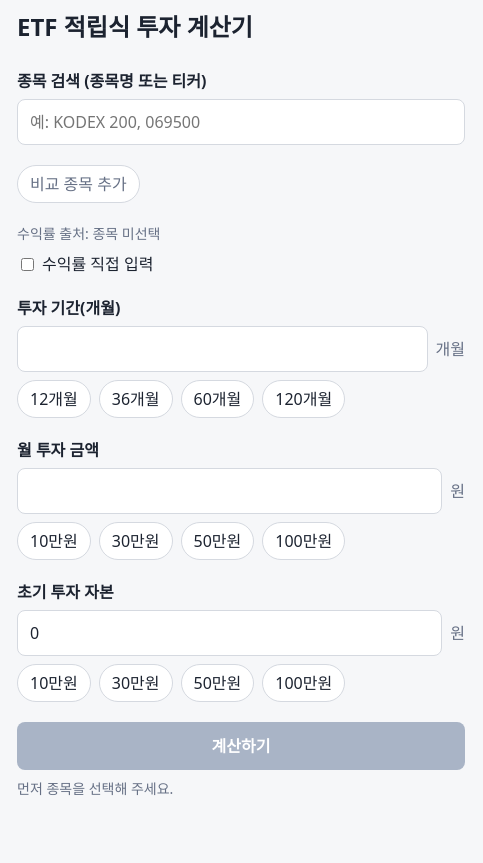
Test: 링크 공유 (US-009) › 링크 복사는 origin+pathname+query를 클립보드에 쓴다
The width and height of the screenshot is (483, 863).
Type "알파" into the dropdown labelled "종목 검색 (종목명 또는 티커)" at (241, 122), box [17,99,465,145]
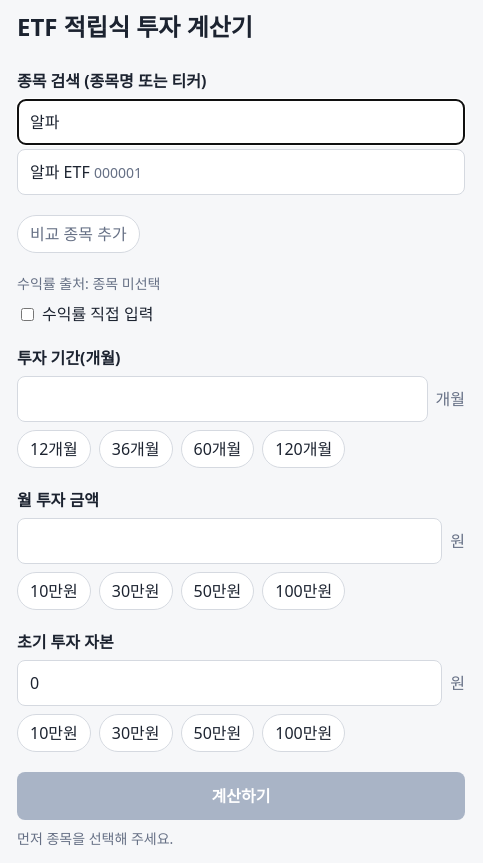
Click the option "알파 ETF 000001" at (86, 172), box [30,161,142,183]
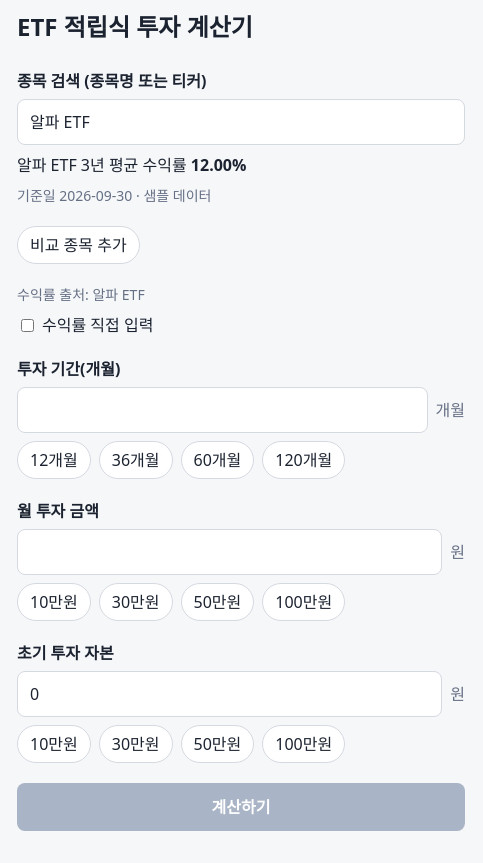
Type "12" into the field labelled "투자 기간(개월)" at (222, 410), box [17,387,428,433]
Type "100000" into the field labelled "월 투자 금액" at (230, 552), box [17,529,442,575]
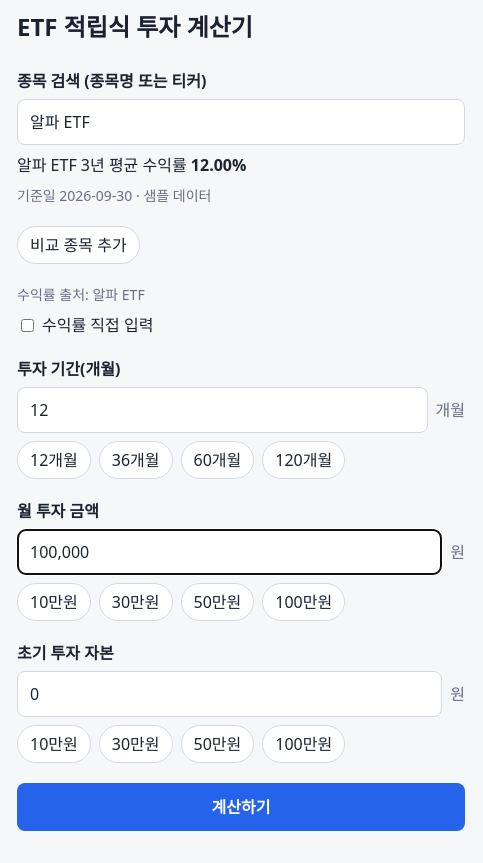
Replace the text in the field labelled "초기 투자 자본" with "1000000" at (230, 694), box [17,671,442,717]
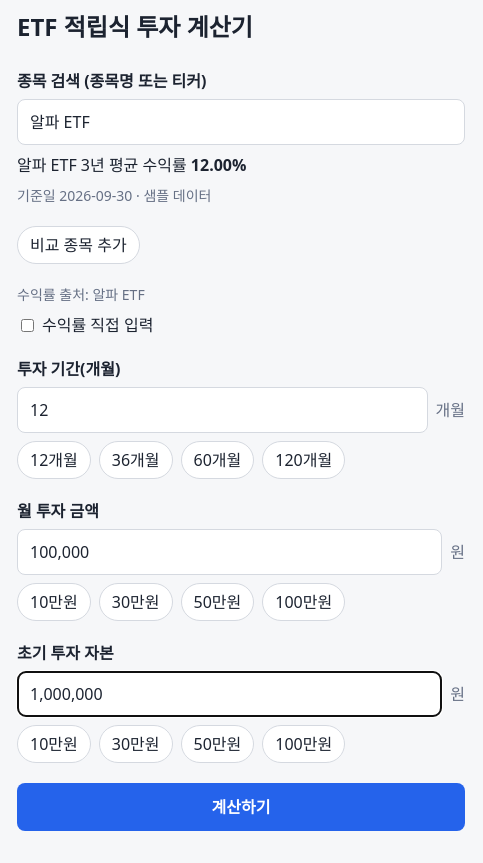
Click the button "계산하기" at (241, 807), box [17,783,465,831]
(page scrolled)
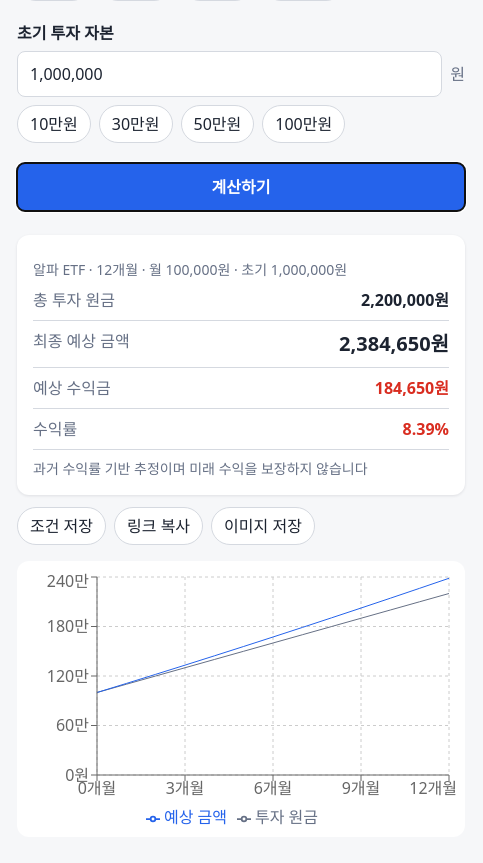
Click the button "링크 복사" at (158, 526), box [114,507,203,545]
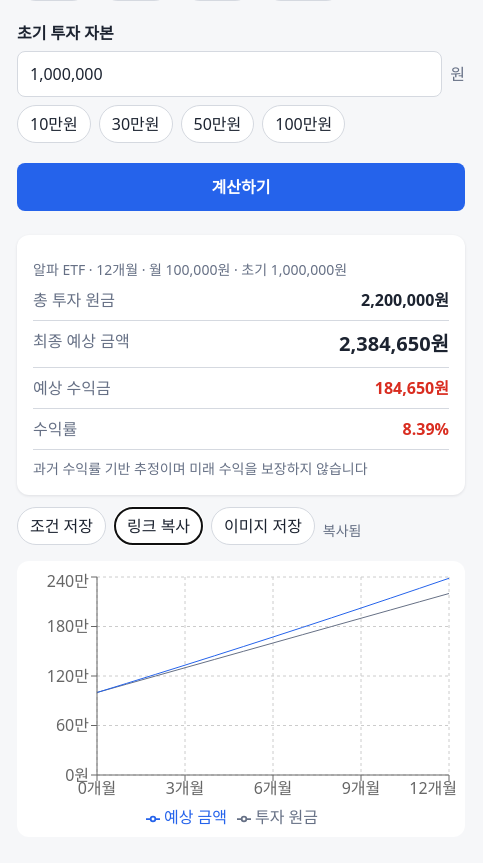
Check: the text "복사됨" is shown, box [323,520,362,540]
